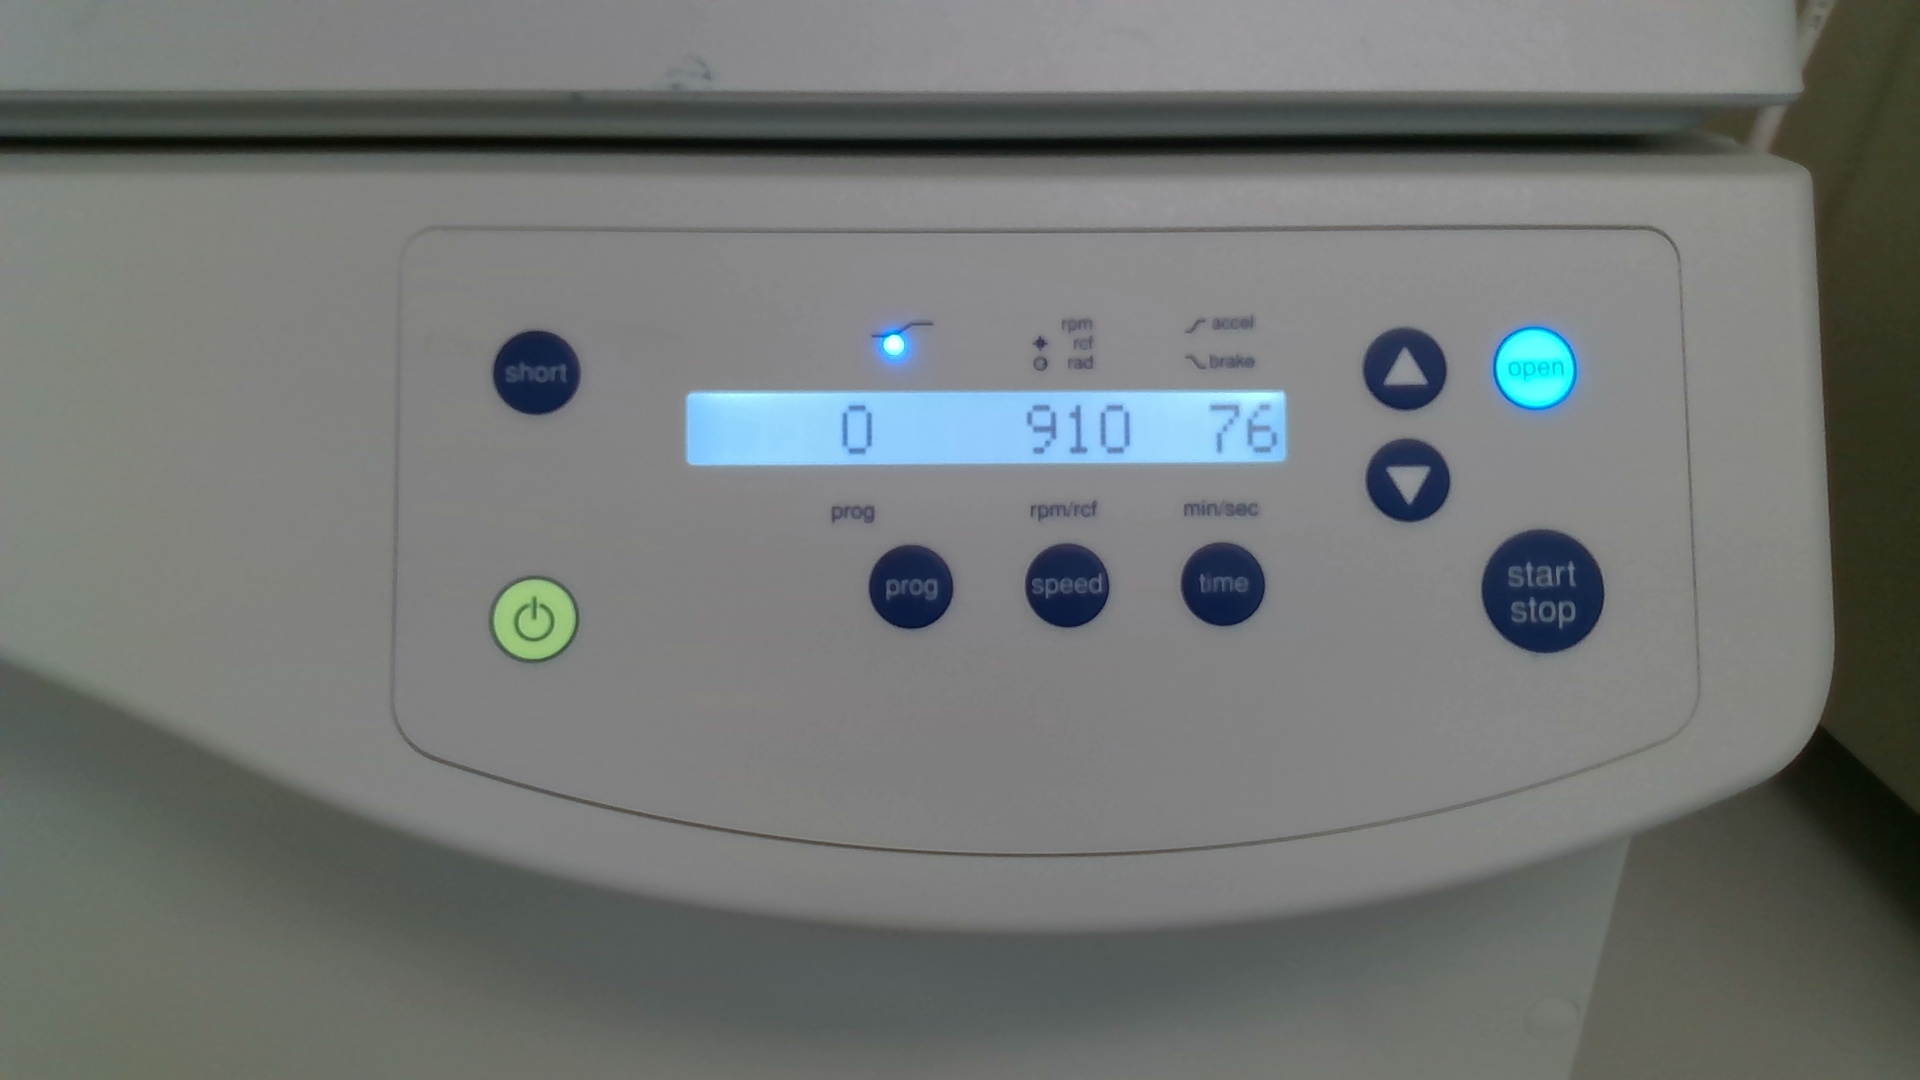0: (1100, 404, 1130, 455), (843, 405, 872, 454)
1: (1068, 404, 1088, 455)
6: (1247, 404, 1276, 452)
7: (1209, 404, 1240, 454)
9: (1027, 404, 1058, 455)
open_on: (1491, 324, 1577, 411)
power_on: (488, 575, 580, 665)
